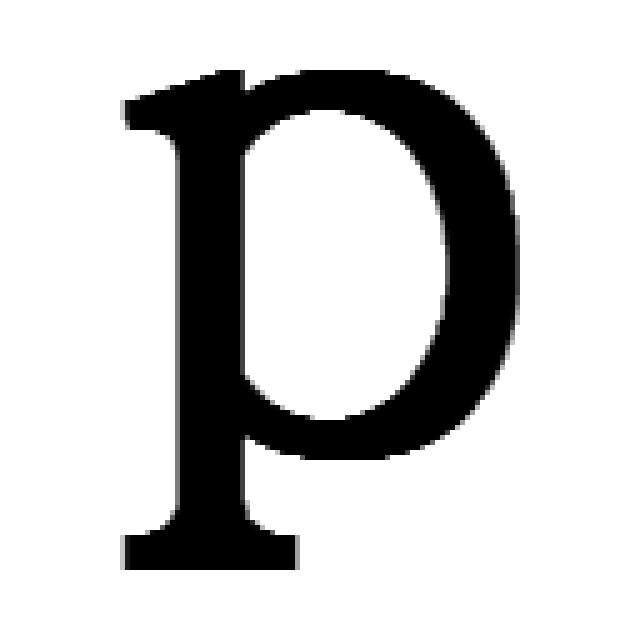P: (120, 70, 520, 575)
